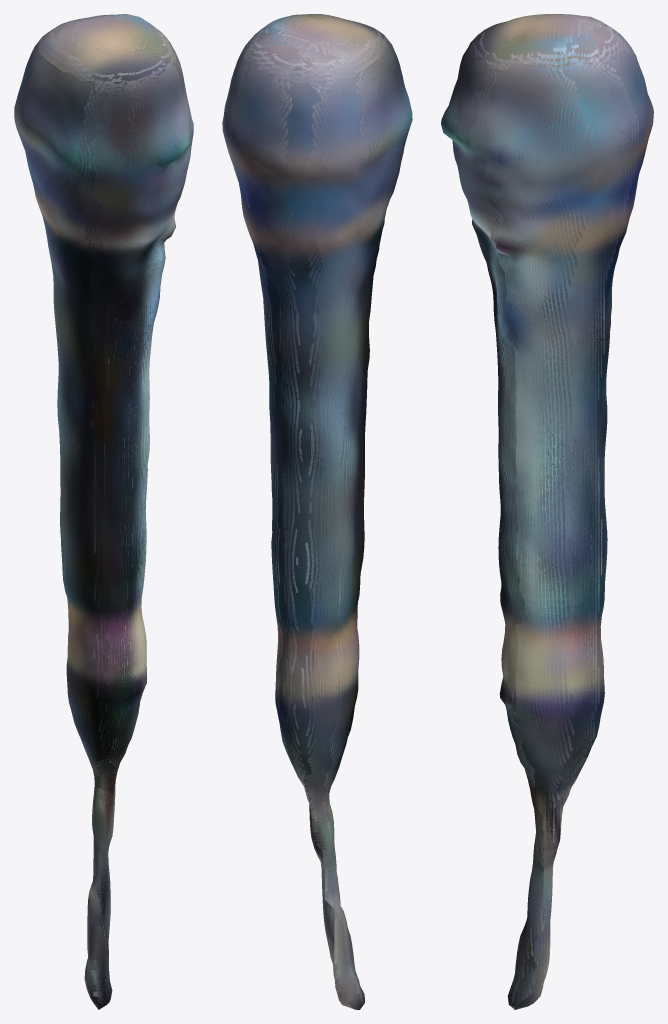
Rendered from image-14_rgba_mesh.obj.
3 renders of one model, left to right at view 1: azimuth 30°, elevation 25°; view 2: azimuth 150°, elevation 25°; view 3: azimuth 270°, elevation 25°, orthographic. The views are drawn at different scales.
Bounding box in the file's own units: 0.2183 × 1.43 × 0.2759.
Materials: 1 (1 with a texture image).
